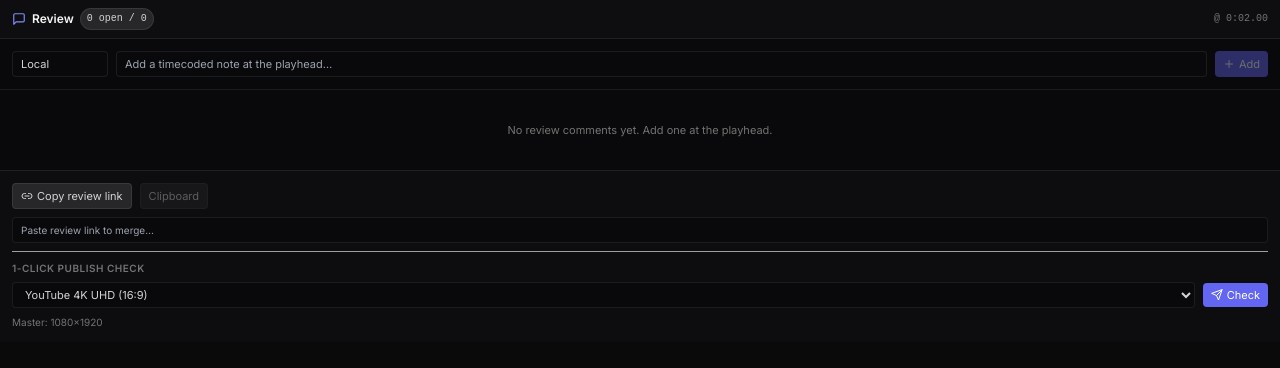
R26.5 — ReviewPanel › passes matching vertical preset
The width and height of the screenshot is (1280, 368).
Select "TikTok / Reels / Shorts (9:16)" in the dropdown named "Publish preset": (603, 295) [12,282,1195,308]
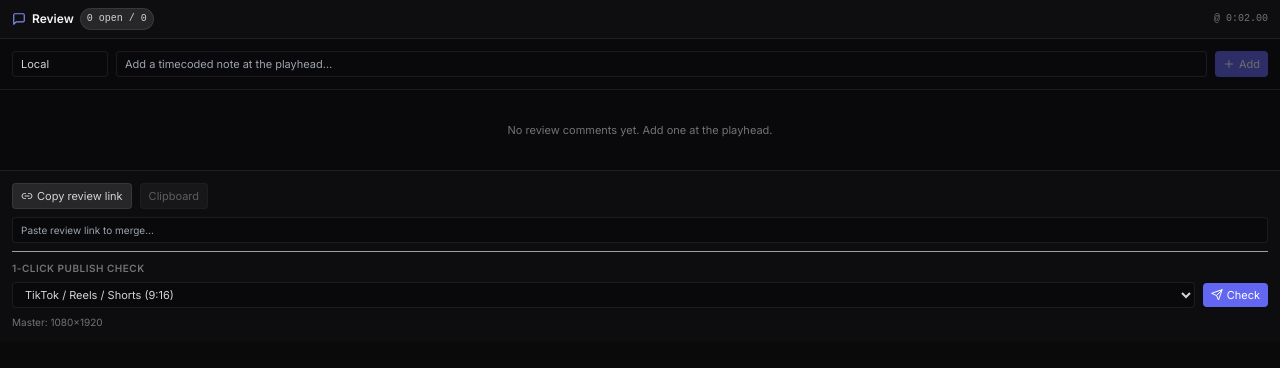
Click the button "Check": (1235, 295) [1203,283,1268,307]
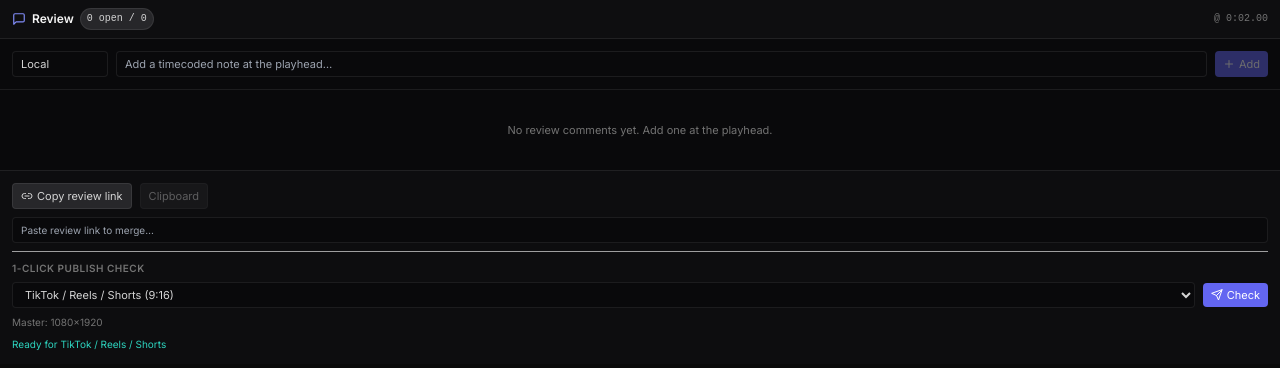
Check: the text "Ready for TikTok / Reels / Shorts" is shown, box [12,338,166,350]
